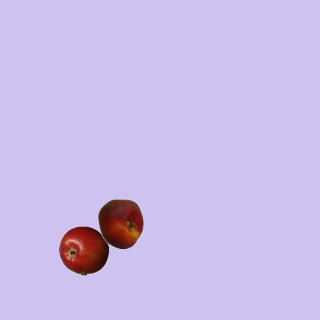Apple Braeburn: (58, 225, 108, 275)
Nectarine Flat: (95, 198, 145, 248)
